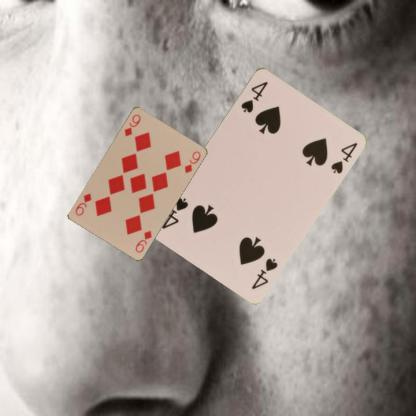4s: (238, 78, 269, 114), (249, 255, 279, 290)
9d: (121, 112, 142, 138), (132, 228, 153, 254)
